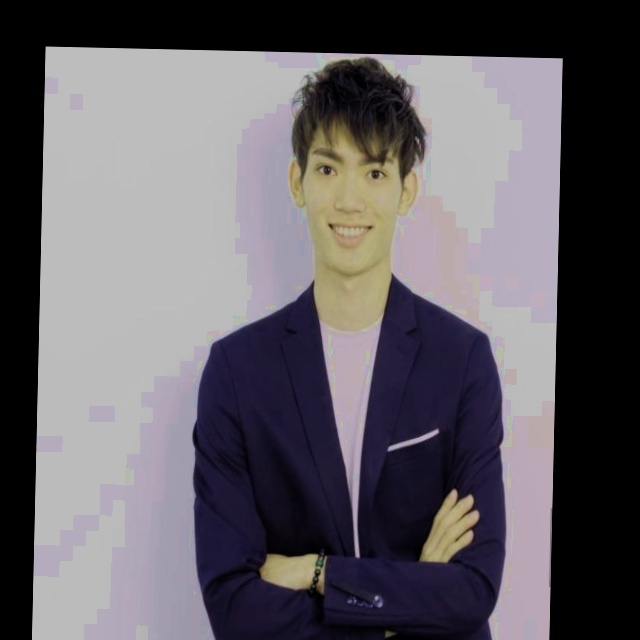Sin_Casco_Mascarrilla: (276, 55, 433, 279)
Sin_Chaleco: (194, 279, 511, 640)
